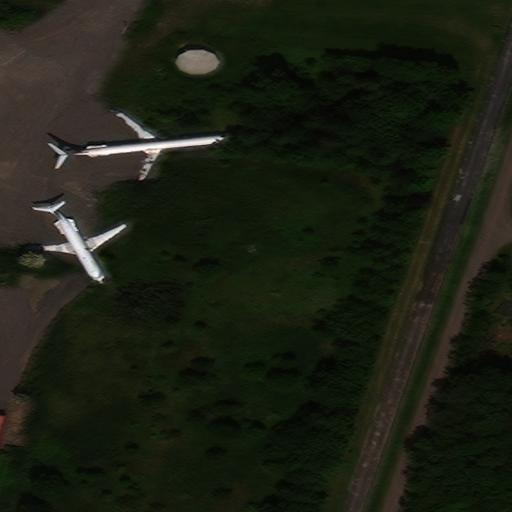Medium Civil Transport: (53, 108, 230, 181), (24, 202, 127, 283)
